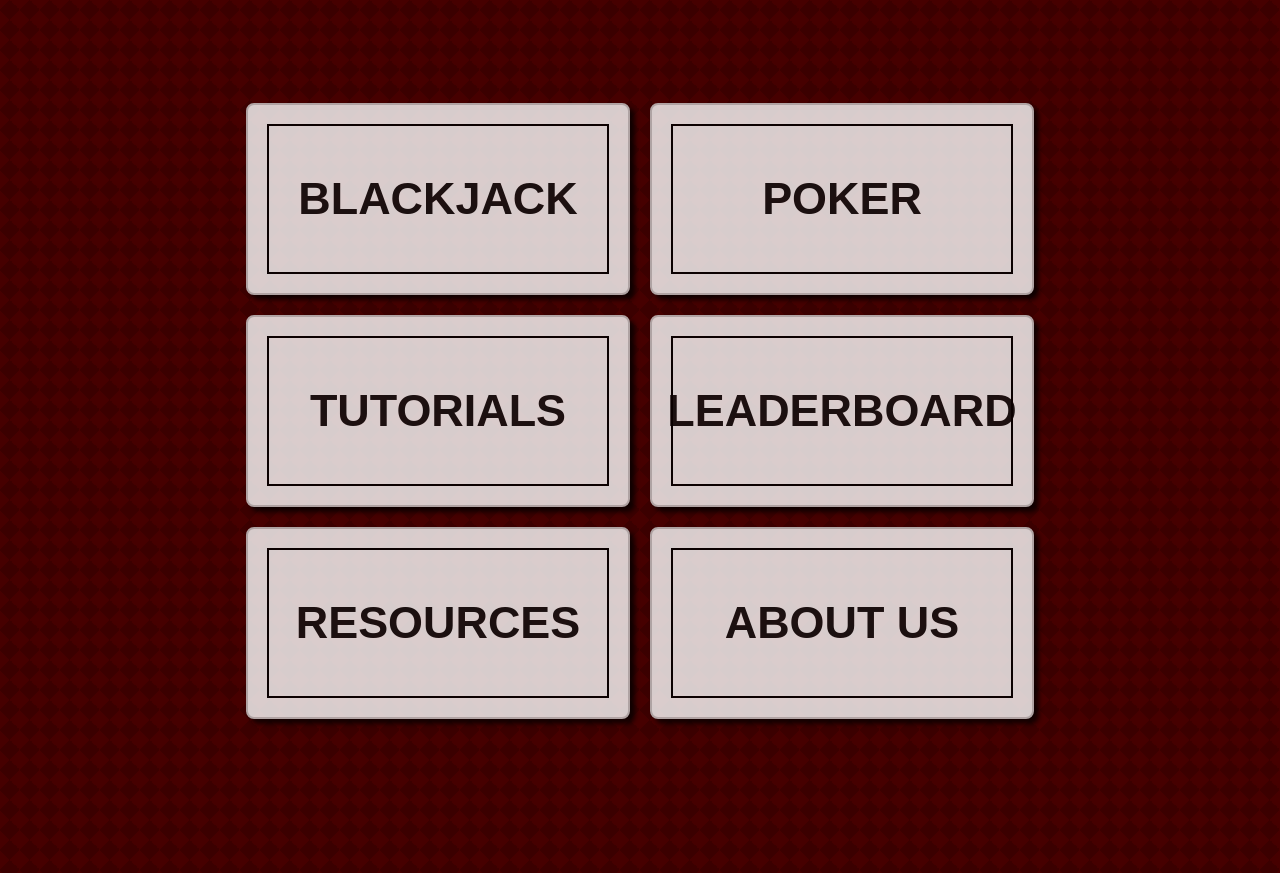
Test: Home Component - Integration Tests › navigates to About-Us when the link is clicked
This screenshot has width=1280, height=873.
Step 1. Click the link "About Us" → (842, 623), box x1=650 y1=527 x2=1034 y2=719
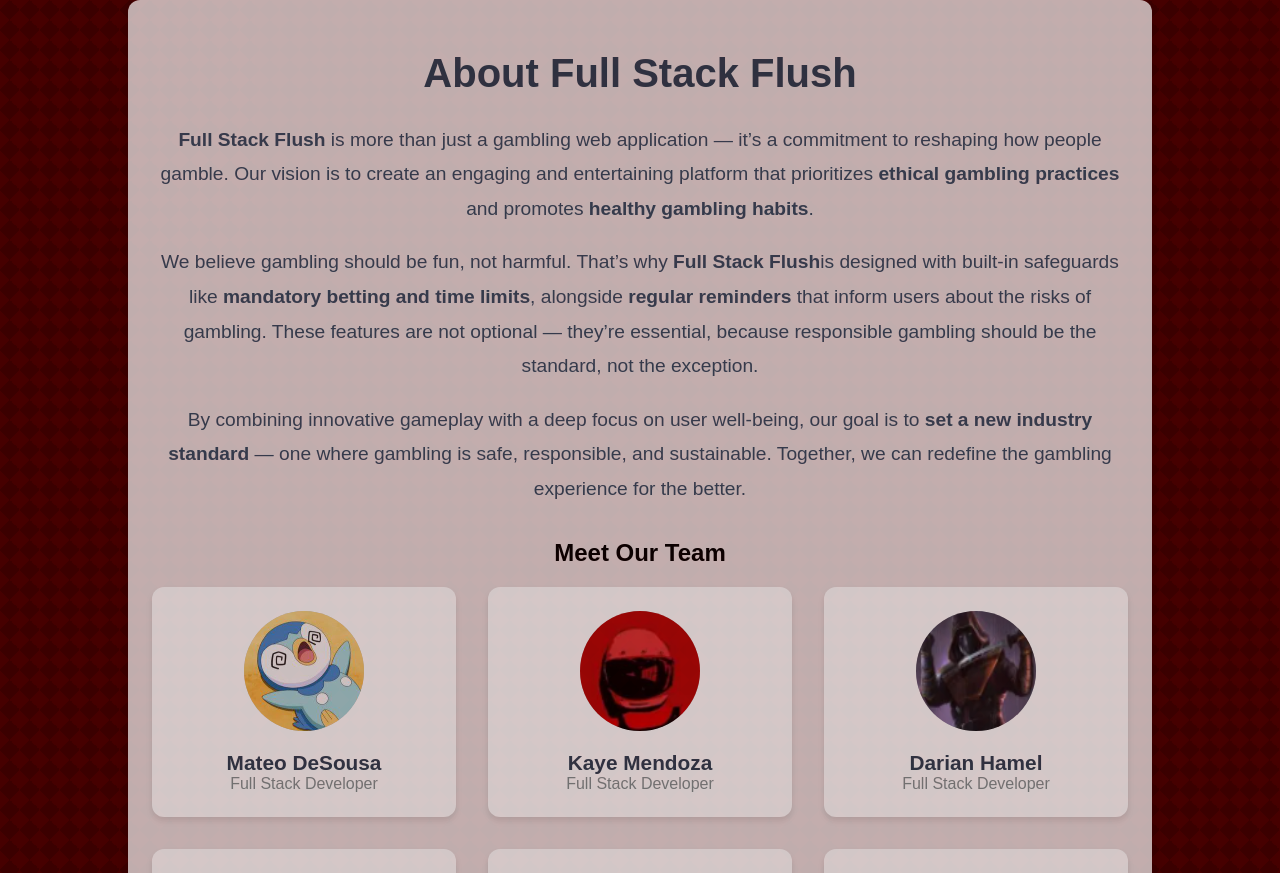
Expected: the heading "About Full Stack Flush" is shown, x1=423 y1=51 x2=857 y2=95
